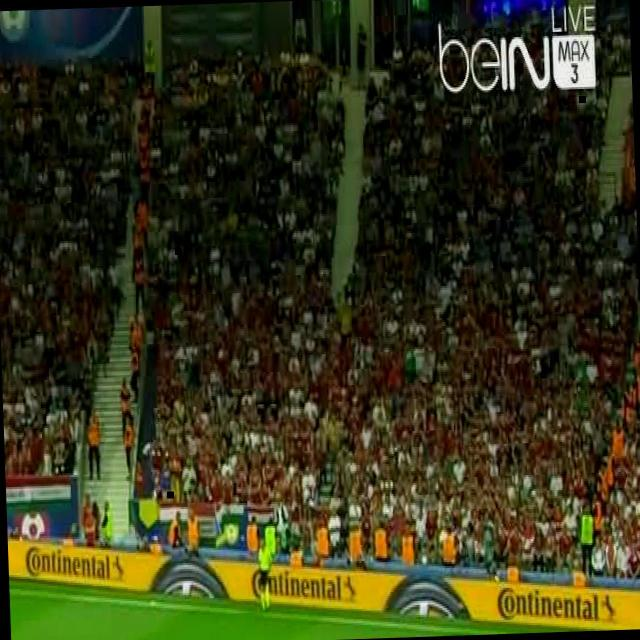player-white: (257, 537, 273, 611)
